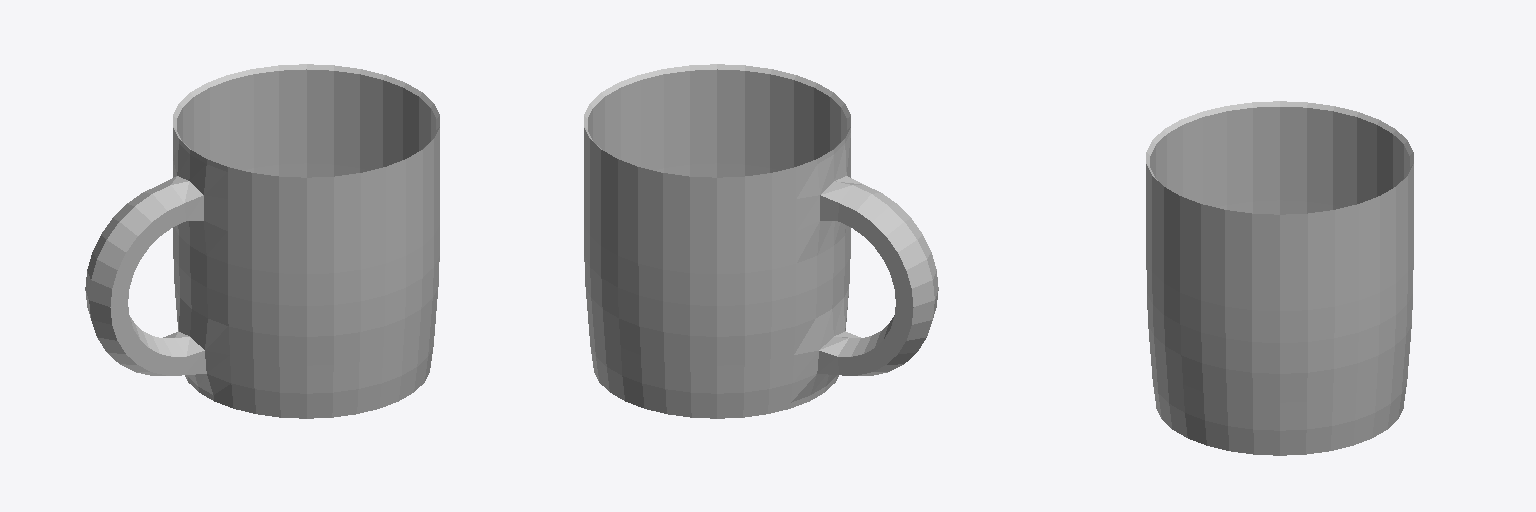
File: mug.obj
3 renders of one model, left to right at view 1: azimuth 30°, elevation 25°; view 2: azimuth 150°, elevation 25°; view 3: azimuth 270°, elevation 25°, orthographic.
Parts seen in each view (by area): view 1: pTorus4; view 2: pTorus4; view 3: pTorus4.
Part boxes in pixels (left/top/right/bottom): pTorus4: left=85, top=64, right=439, bottom=418; pTorus4: left=584, top=64, right=938, bottom=418; pTorus4: left=1146, top=101, right=1413, bottom=455.
Size of the model in its own units: 8.03 by 5.64 by 5.57.